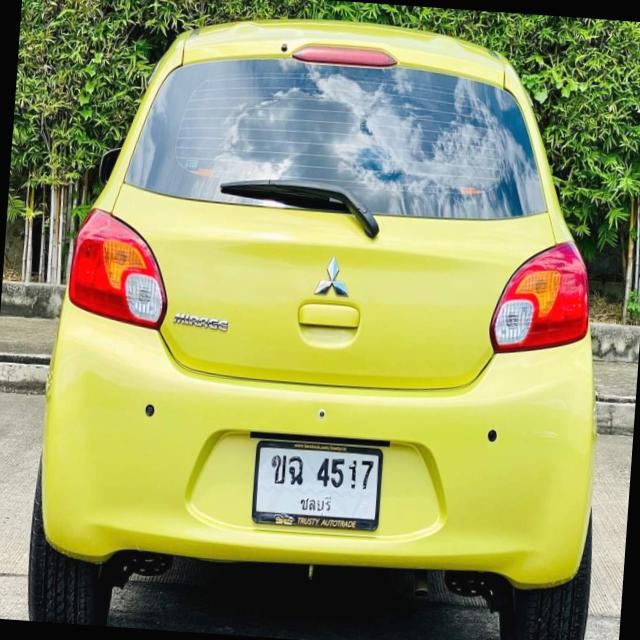license_plate: (250, 437, 384, 535)
